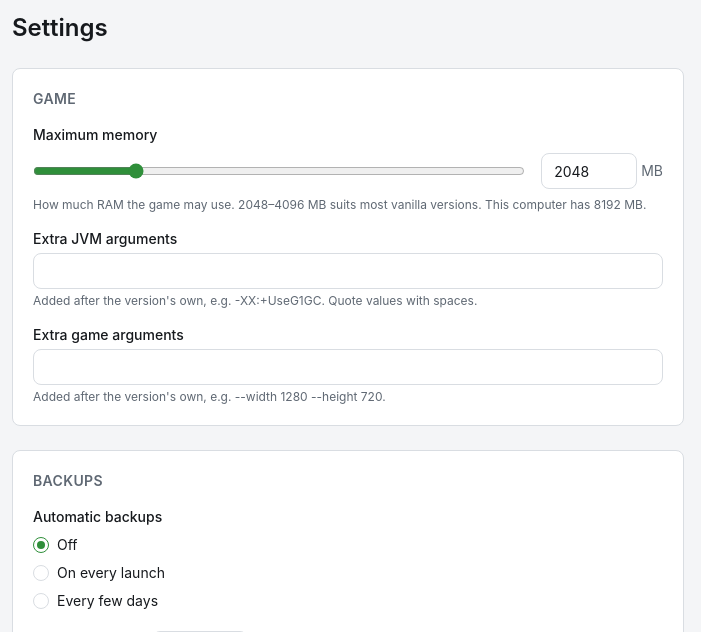
SettingsPage › shows the computer's memory and warns above 75% of it
Expected: the text "This computer has 8192 MB." is shown, [482,197,646,212]
Replace the text in the number field labelled "Maximum memory" with "7168": (589, 171) [541,153,637,189]
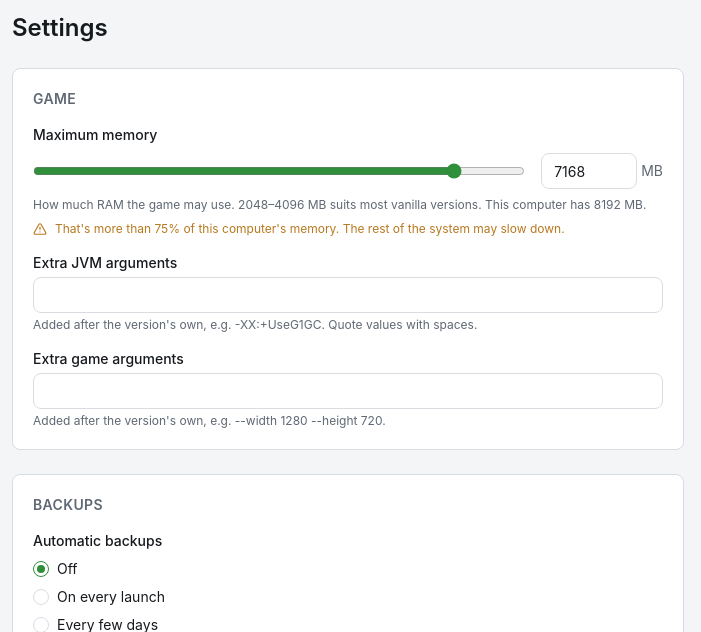
Now the text "more than 75% of this computer's memory" is shown, box [55,221,565,236]
Replace the text in the number field labelled "Maximum memory" with "4096": (589, 171) [541,153,637,189]
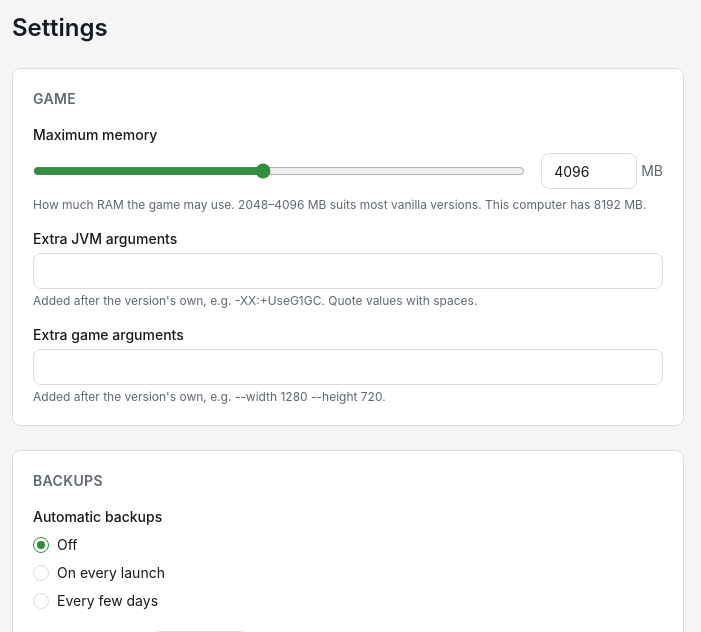
Now the text "more than 75%" is gone
